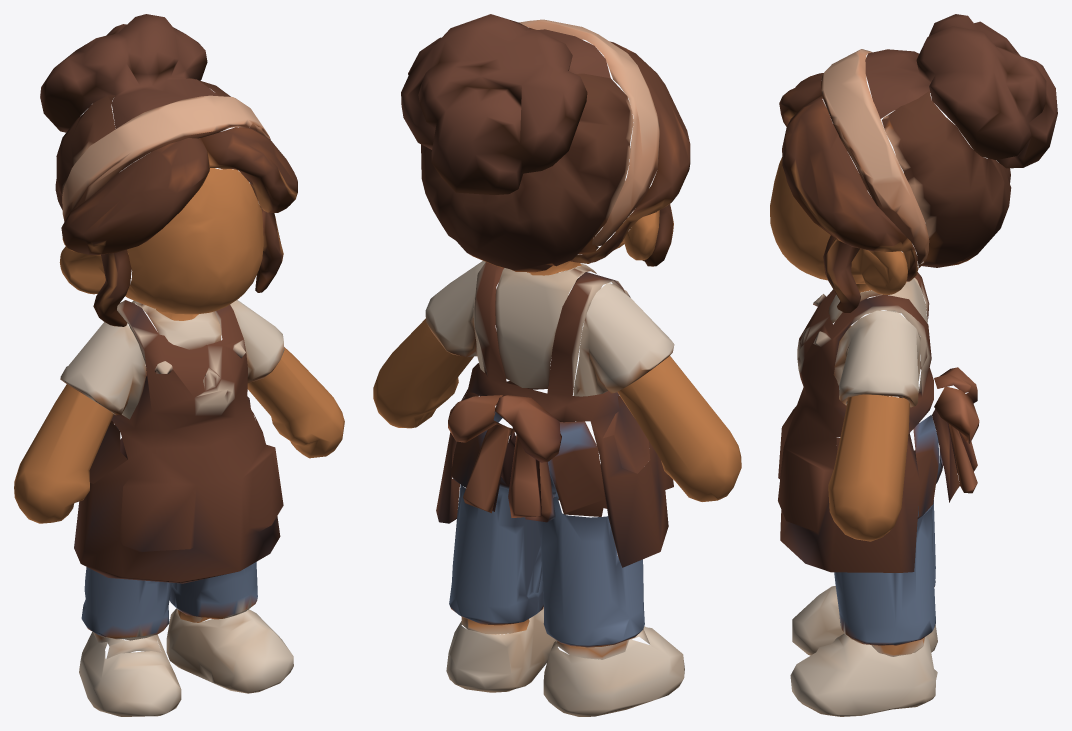
3 renders of one model, left to right at view 1: azimuth 30°, elevation 25°; view 2: azimuth 150°, elevation 25°; view 3: azimuth 270°, elevation 25°, orthographic. The views are drawn at different scales.
Parts seen in each view (by area): view 1: top, hair, head, acc_head_0, bottom, hand_r, acc_head_2, shoe_l, shoe_r, sleeve_r, hand_l, acc_head_1 (+1 smaller); view 2: top, acc_head_0, bottom, acc_head_1, hand_r, sleeve_r, shoe_r, shoe_l, hand_l, acc_head_2, hair, sleeve_l (+1 smaller); view 3: top, acc_head_0, hair, acc_head_1, hand_l, shoe_l, acc_head_2, bottom, sleeve_l, head, shoe_r.
Part boxes in pixels (x1,y1,x2,y2): top: (74, 300, 283, 583); hair: (61, 127, 297, 326); head: (59, 168, 263, 320); acc_head_0: (40, 14, 218, 132); bottom: (81, 562, 257, 640); hand_r: (14, 384, 113, 523); acc_head_2: (62, 95, 270, 221); shoe_l: (166, 608, 293, 693); shoe_r: (79, 632, 181, 716); sleeve_r: (60, 322, 146, 483); hand_l: (247, 347, 344, 458); acc_head_1: (55, 78, 230, 209); top: (436, 262, 673, 567); acc_head_0: (401, 14, 610, 194); bottom: (449, 484, 644, 647); acc_head_1: (421, 73, 633, 272); hand_r: (617, 356, 741, 501); sleeve_r: (573, 283, 674, 473); shoe_r: (543, 626, 684, 716); shoe_l: (446, 607, 557, 692); hand_l: (373, 318, 473, 428); acc_head_2: (519, 19, 659, 246); hair: (529, 28, 690, 266); sleeve_l: (425, 261, 485, 400); top: (778, 272, 979, 572); acc_head_0: (865, 14, 1057, 168); hair: (779, 73, 918, 312); acc_head_1: (882, 91, 1011, 268); hand_l: (828, 394, 909, 541); shoe_l: (790, 633, 937, 716); acc_head_2: (820, 49, 929, 264); bottom: (834, 500, 935, 645); sleeve_l: (834, 310, 920, 456); head: (770, 157, 907, 294); shoe_r: (792, 586, 937, 656).
Size of the model in its own units: 0.5536 by 1.03 by 0.4127.
